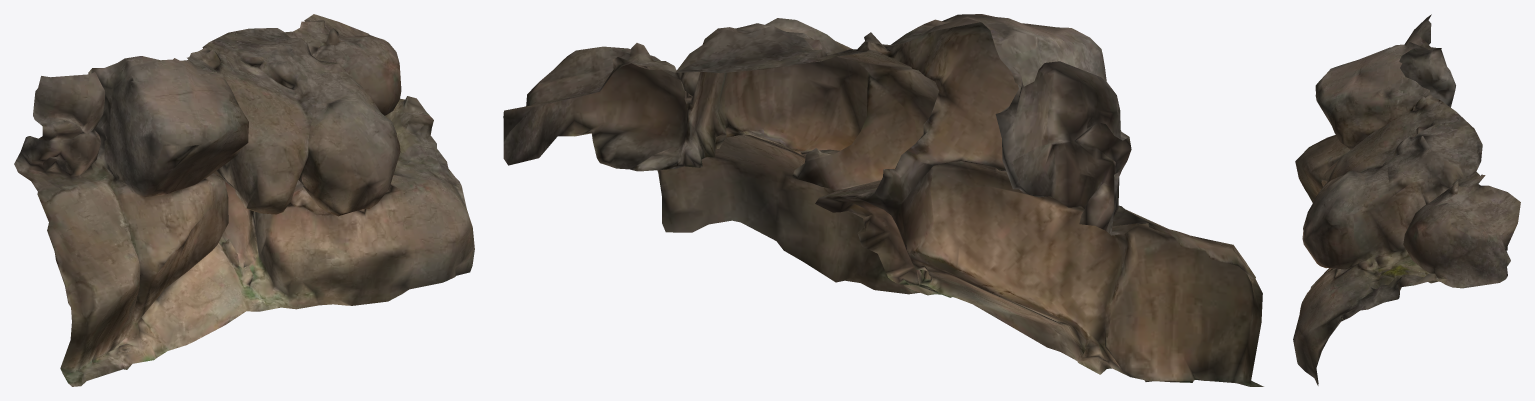
The model's file is namaqualand_cliff_01_far.glb.
3 views of the same model, side by side, from view 1: azimuth 30°, elevation 25°; view 2: azimuth 150°, elevation 25°; view 3: azimuth 270°, elevation 25° (orthographic). The views are drawn at different scales.
Visible parts, largest first — view 1: drone_rock_01; view 2: drone_rock_01; view 3: drone_rock_01.
Boxes of the visible parts, x1=… form: drone_rock_01: x1=14, y1=14, x2=474, y2=386; drone_rock_01: x1=503, y1=14, x2=1263, y2=386; drone_rock_01: x1=1293, y1=14, x2=1520, y2=385.
Size of the model in its own units: 8.27 by 4.95 by 4.39.
1 material, 1 textured.
